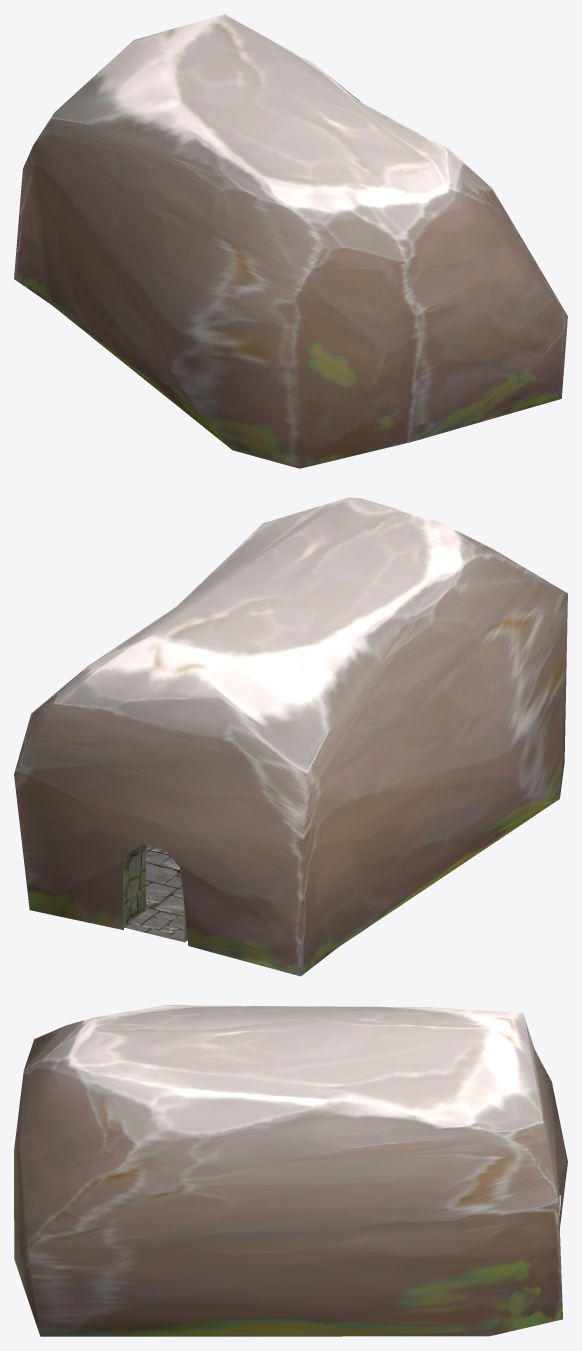
File: mausoleum.glb
The picture shows the model from 3 angles, top to bottom: view 1: azimuth 30°, elevation 25°; view 2: azimuth 150°, elevation 25°; view 3: azimuth 270°, elevation 25°; orthographic projection. The views are drawn at different scales.
Parts seen in each view (by area): view 1: shell; view 2: shell; view 3: shell.
Boxes of the visible parts, x1,y1,x2,y2 form: shell: [14, 14, 567, 468]; shell: [14, 497, 567, 976]; shell: [14, 1005, 567, 1336].
Size of what is drawn, in the model's own units: 34.7 by 26.4 by 52.87.
2 materials, 2 textured.
